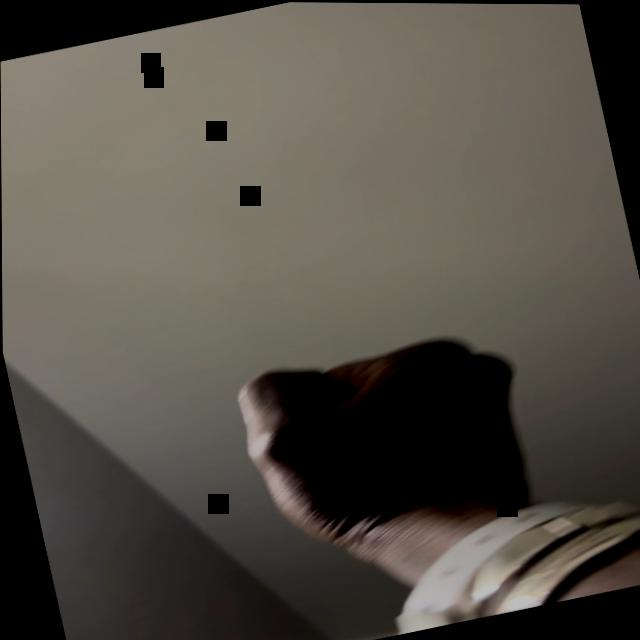Rock: (226, 315, 547, 568)
